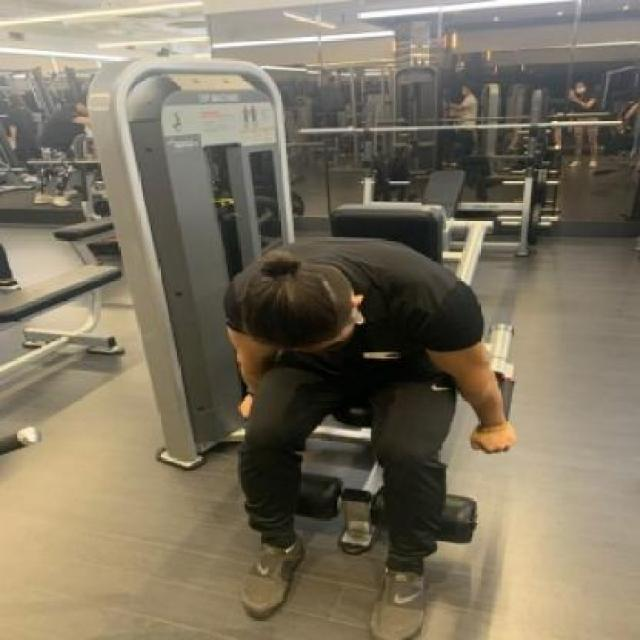seated dip machine: (62, 46, 570, 640)
